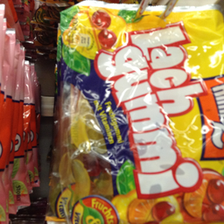candy: (59, 6, 224, 222)
